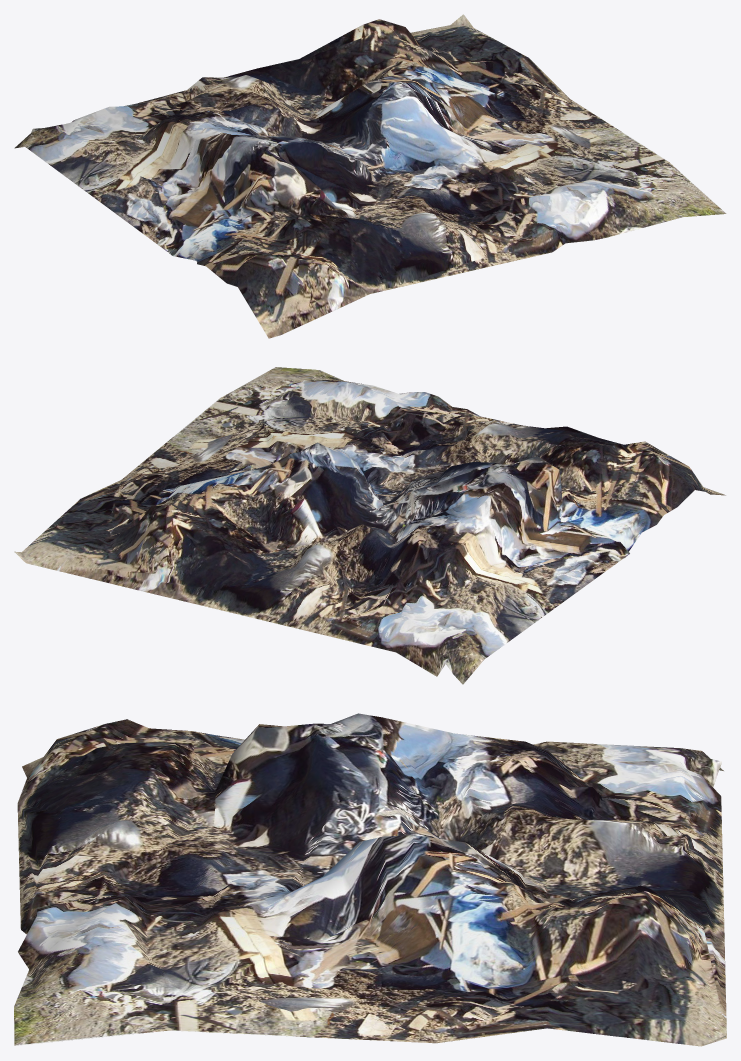
Rendered from junkpile_500.fbx.
3 renders of one model, top to bottom at view 1: azimuth 30°, elevation 25°; view 2: azimuth 150°, elevation 25°; view 3: azimuth 270°, elevation 25°, orthographic. The views are drawn at different scales.
Parts seen in each view (by area): view 1: U3DMesh; view 2: U3DMesh; view 3: U3DMesh.
Boxes of the visible parts, box(x1,y1,x2,y2) form: U3DMesh: box(14, 14, 726, 338); U3DMesh: box(14, 367, 725, 684); U3DMesh: box(14, 713, 726, 1046).
Size of the model in its own units: 64.36 by 12.01 by 64.15.
